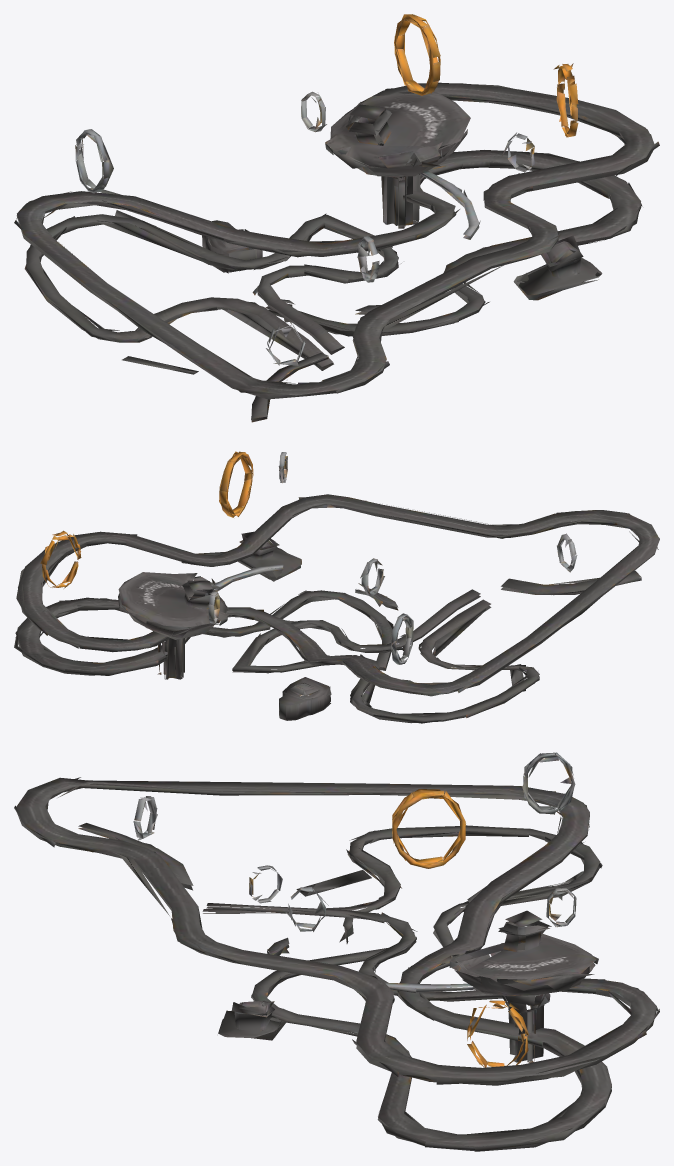
Rendered from airbourne-arena-map-v1-lod1.glb.
The picture shows the model from 3 angles, top to bottom: view 1: azimuth 30°, elevation 25°; view 2: azimuth 150°, elevation 25°; view 3: azimuth 270°, elevation 25°; orthographic projection. The views are drawn at different scales.
Parts seen in each view (by area): view 1: airbourne-arena-map-v1-lod1; view 2: airbourne-arena-map-v1-lod1; view 3: airbourne-arena-map-v1-lod1.
Boxes of the visible parts, <box> form: airbourne-arena-map-v1-lod1: <box>14,14,659,422</box>; airbourne-arena-map-v1-lod1: <box>14,451,659,723</box>; airbourne-arena-map-v1-lod1: <box>14,752,659,1151</box>.
Bounding box in the file's own units: 3624 × 1449 × 3403.
Materials: 1 (1 with a texture image).
